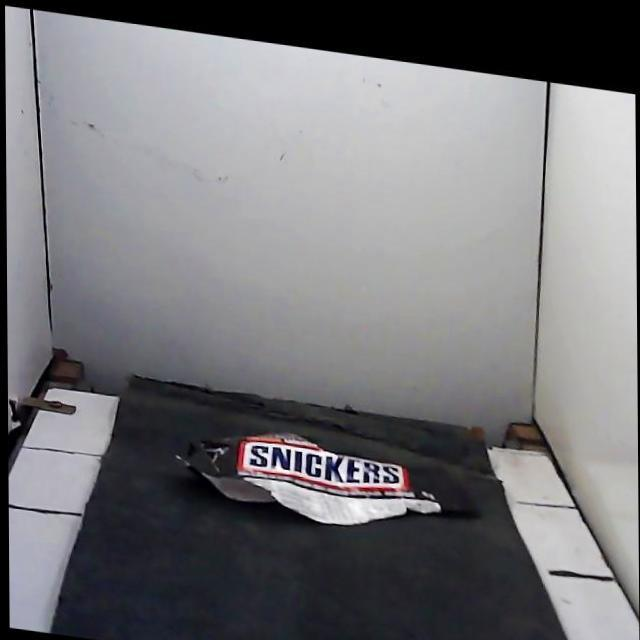plastico: (180, 433, 477, 525)
